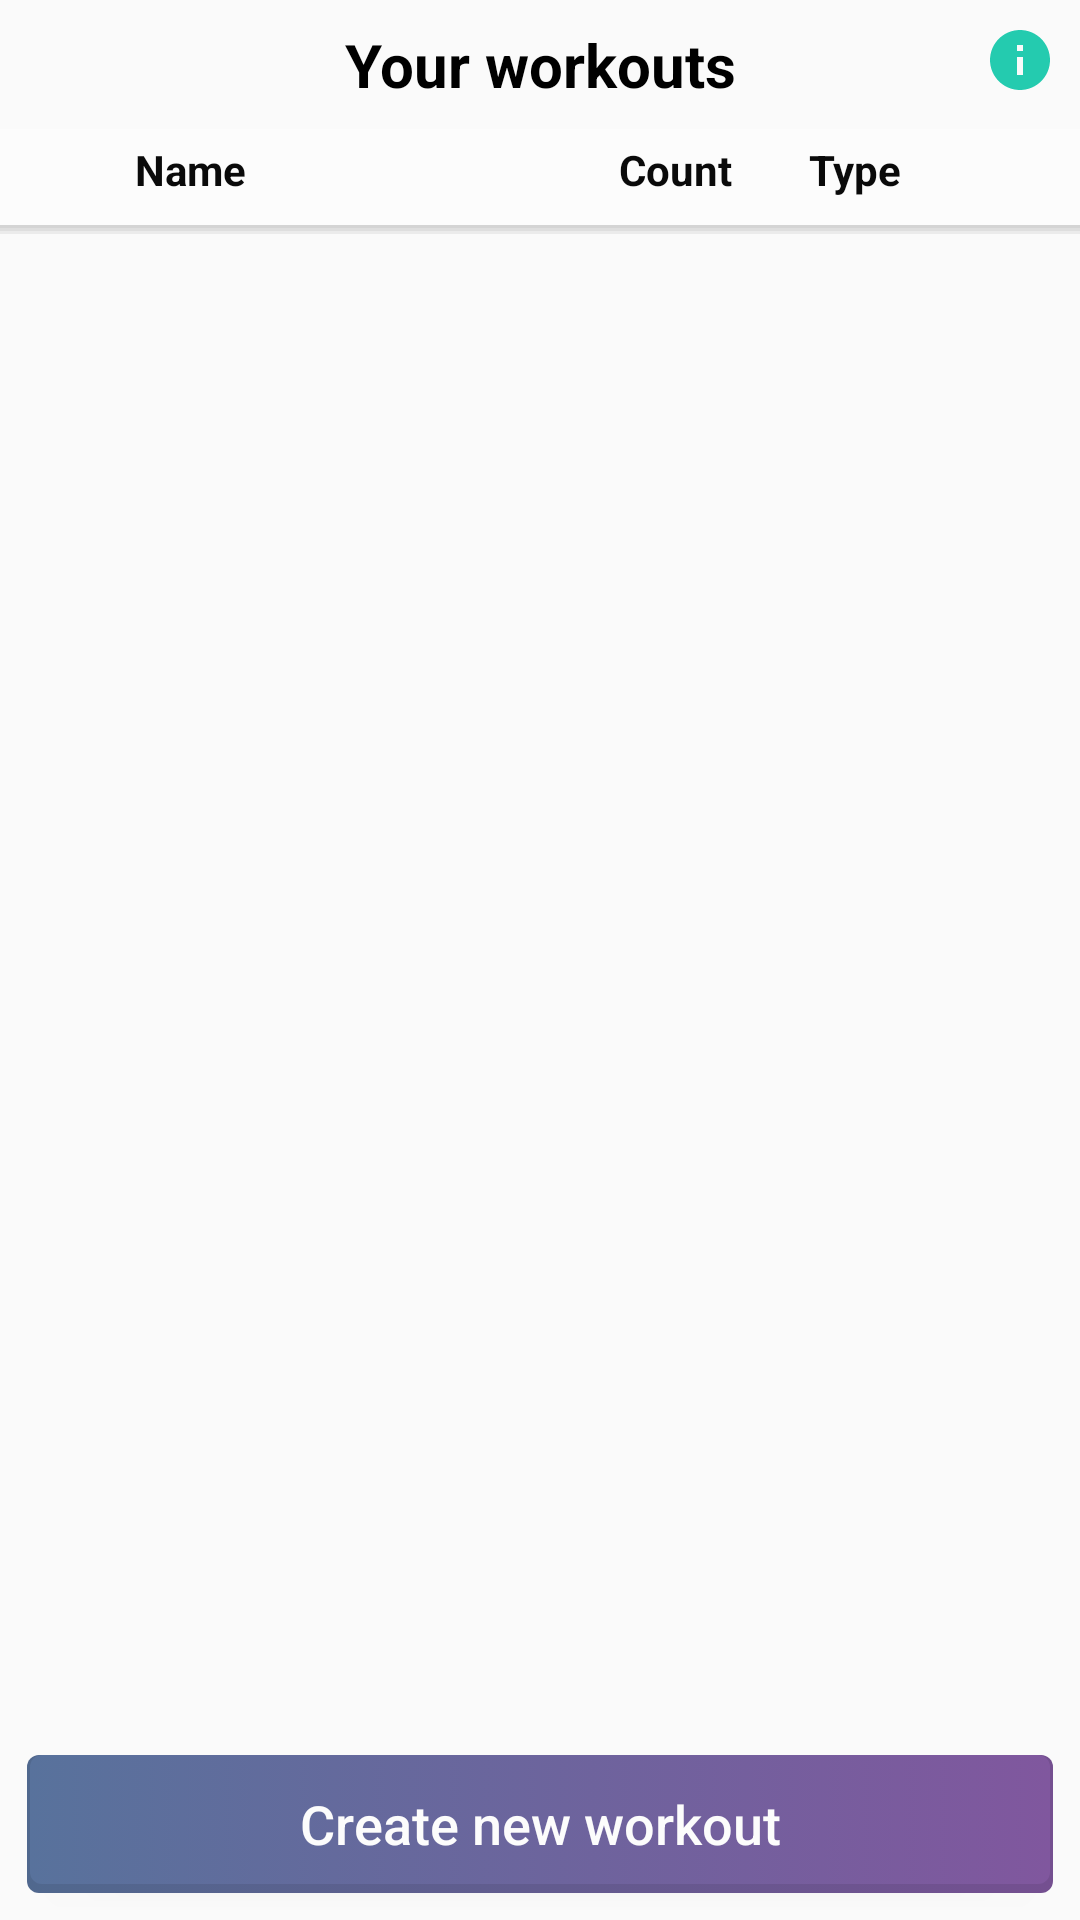

Point at icon controls on the screen. Image size 1080px x 1920px, points as [x,y].
details: [1020,60]
